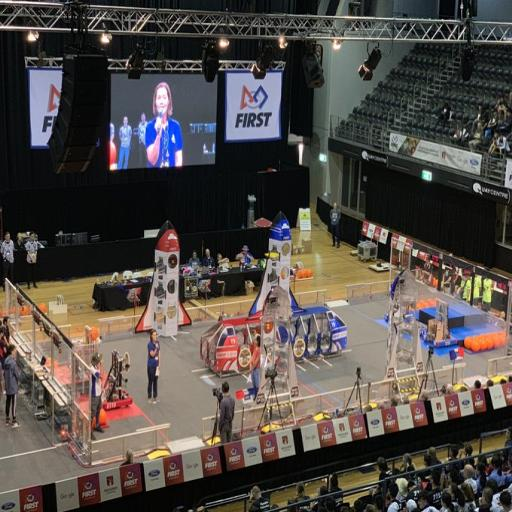robot: (70, 326, 102, 393), (98, 354, 133, 412), (419, 298, 456, 348)
